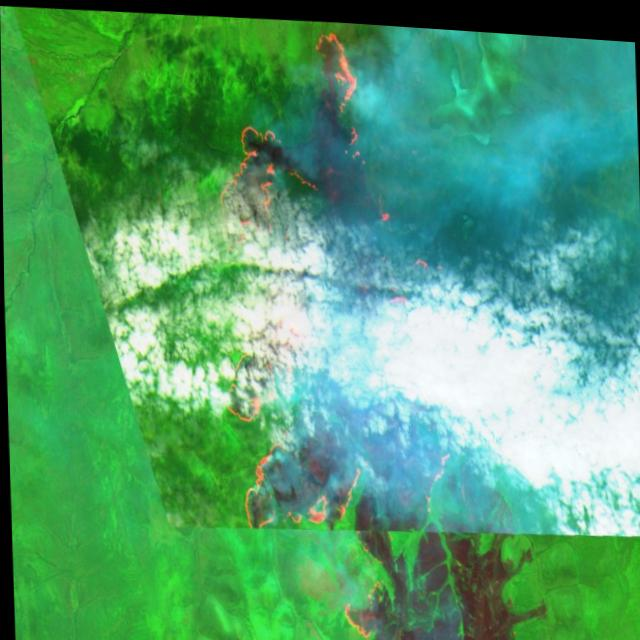fire: (224, 428, 367, 549), (210, 105, 304, 244), (350, 186, 426, 319), (217, 311, 293, 428), (310, 16, 367, 134), (339, 572, 409, 640), (414, 427, 456, 521)
